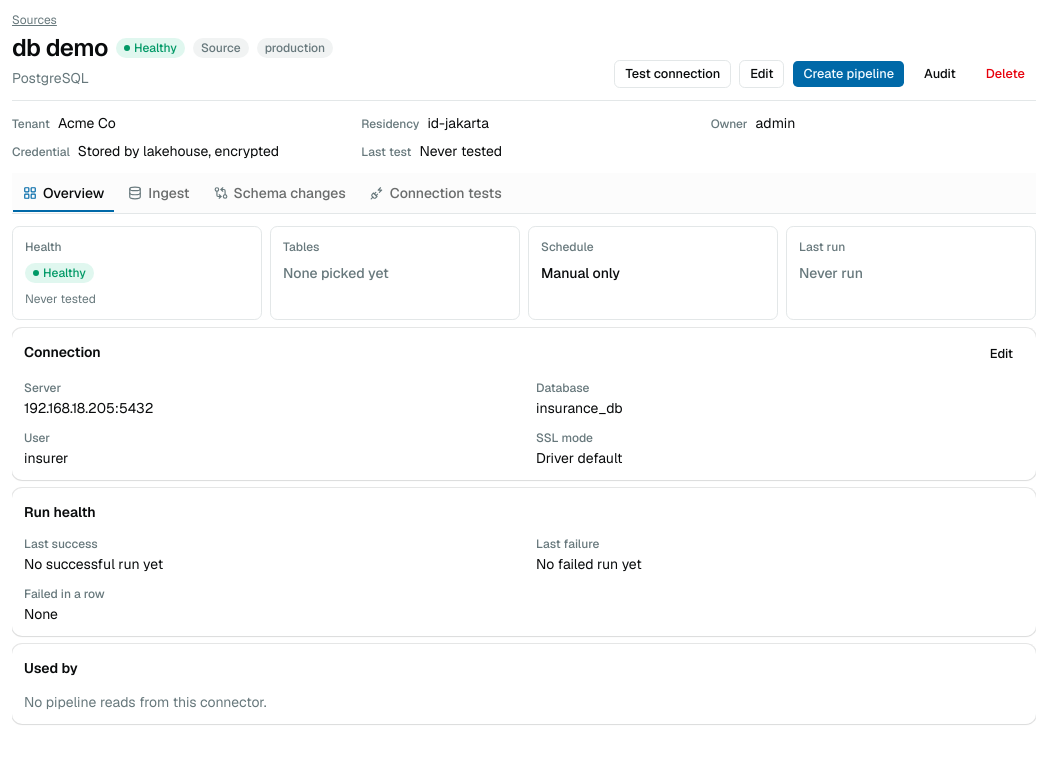
Test: ConnectorDetailPage › tests the connection, shows the result line, reloads the detail and lists the test in the history
Expected: the text "No pipeline reads from this connector." is shown, x1=24 y1=693 x2=267 y2=711
Click the button "Test connection". click: (673, 74)
box: x1=614 y1=60 x2=731 y2=88
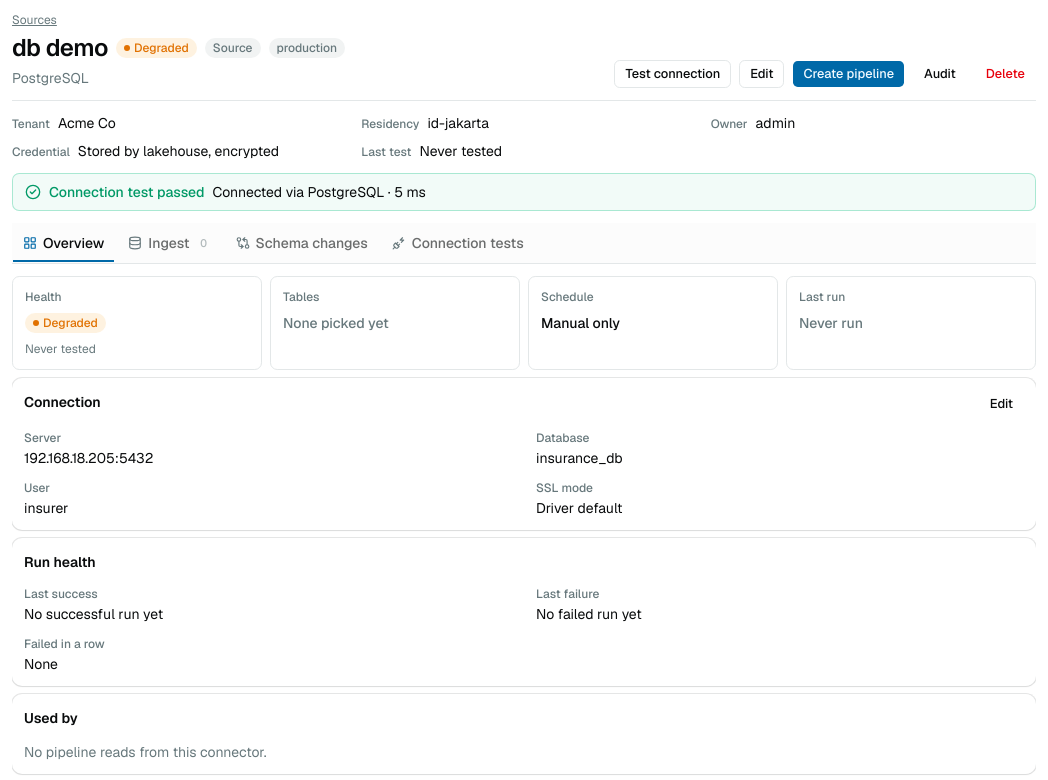
Expected: the heading "db demo" is shown, x1=12 y1=32 x2=108 y2=64
Expected: the text "Connected via PostgreSQL · 5 ms" is shown, x1=212 y1=183 x2=426 y2=201
Click the tab "Connection tests". click: (458, 243)
box: x1=381 y1=223 x2=535 y2=263
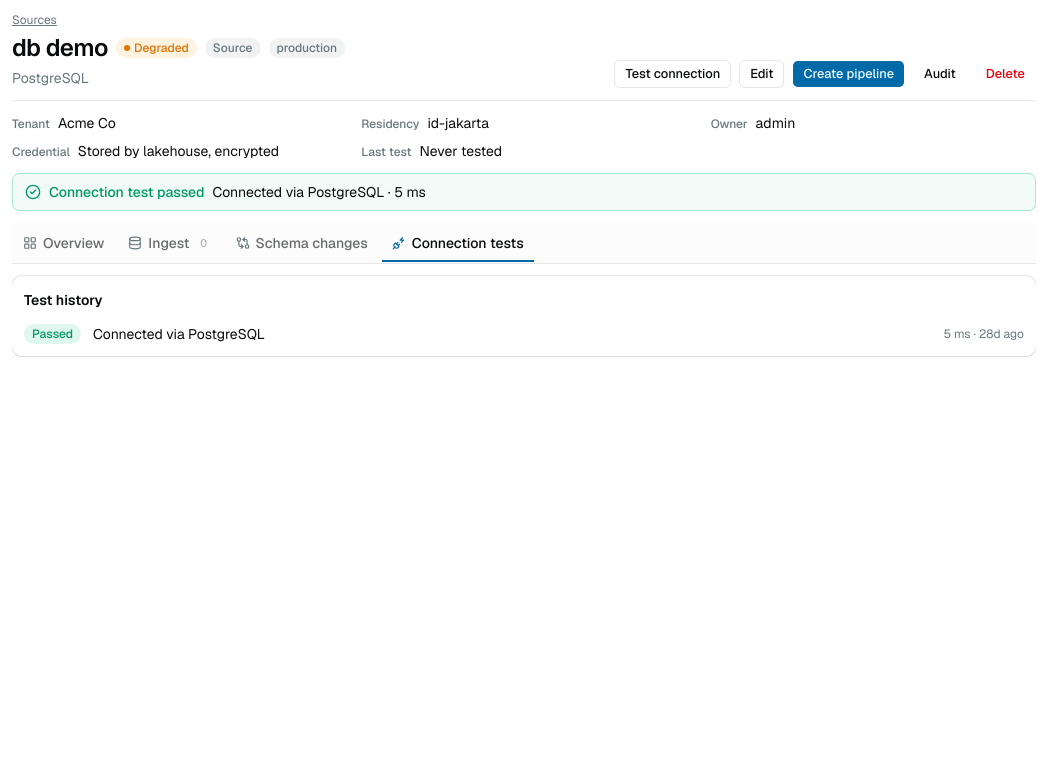
Expected: the text "Passed" is shown, x1=24 y1=324 x2=81 y2=344
Expected: the text "Connected via PostgreSQL" is shown, x1=93 y1=325 x2=265 y2=343
